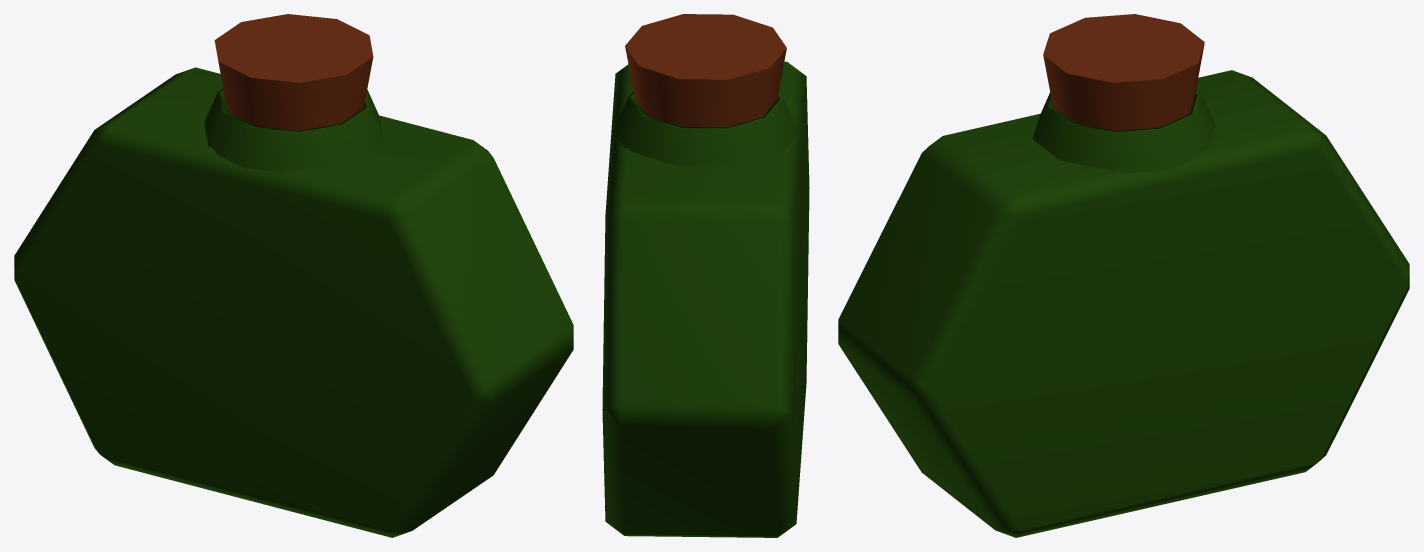
File: flask2.obj
The picture shows the model from 3 angles, left to right: view 1: azimuth 30°, elevation 25°; view 2: azimuth 150°, elevation 25°; view 3: azimuth 270°, elevation 25°; orthographic projection.
Parts seen in each view (by area): view 1: flaska1; view 2: flaska1; view 3: flaska1.
Boxes of the visible parts, x1,y1,x2,y2 form: flaska1: (14,14,573,537); flaska1: (602,14,809,537); flaska1: (838,14,1409,537).
Bounding box in the file's own units: 0.5488 × 0.6081 × 0.7363.
